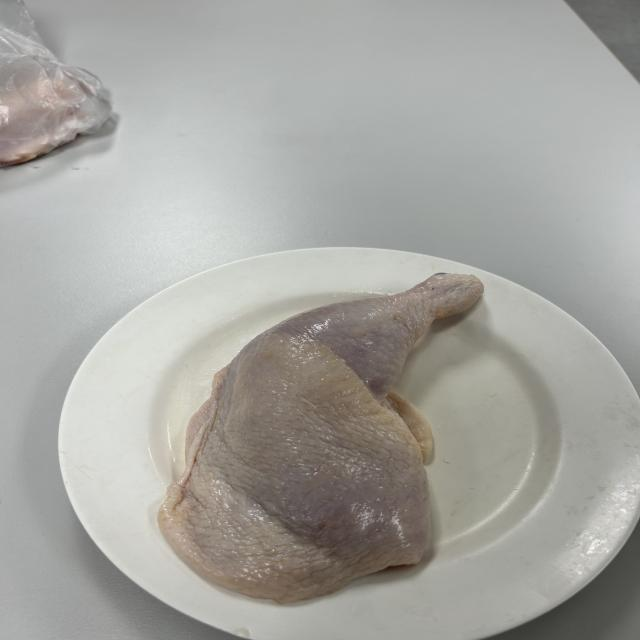quater: (185, 264, 492, 572)
